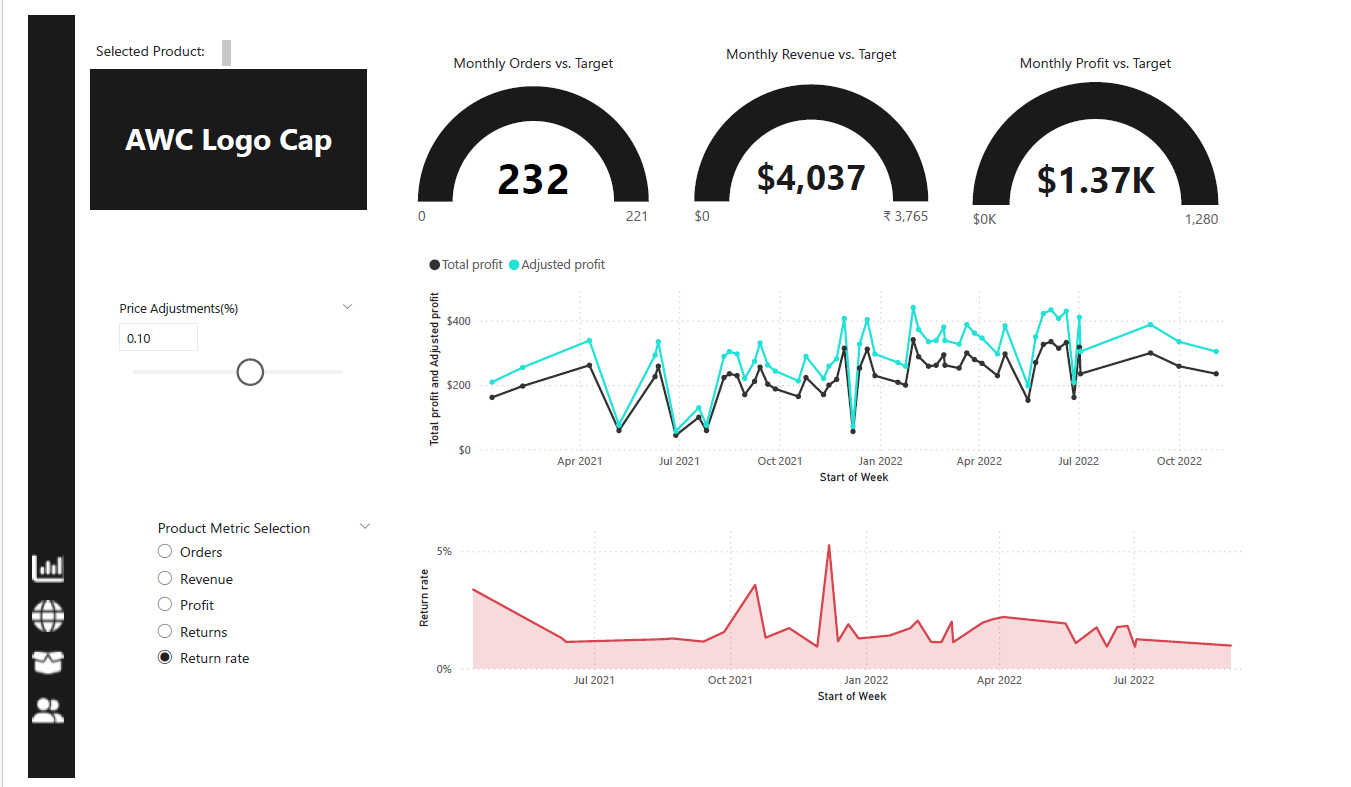

This screenshot's page, from the dashboard's own definition file:
{"tool":"powerbi","page":{"name":"Product Detail","canvas":[1280,720],"ordinal":2},"visuals":[{"type":"shape","box":[0,0,44.3,720],"z":0},{"type":"actionButton","box":[0,546,36.8,40.4],"z":0,"group":"g1"},{"type":"gauge","title":"Monthly Orders vs. Target","fields":{"MaxValue":["Measure Table.order target"],"Y":["Measure Table.Total orders"]},"box":[362.9,35.7,228.6,181.4],"z":1000},{"type":"actionButton","box":[0,590.6,36.8,40.4],"z":1000,"group":"g1"},{"type":"gauge","title":"Monthly Profit vs. Target","fields":{"MaxValue":["Measure Table.profit target"],"Y":["Measure Table.Total profit"]},"box":[887.1,35.7,241.4,180],"z":2000},{"type":"actionButton","box":[0,501.5,36.8,40.4],"z":2000,"group":"g1"},{"type":"gauge","title":"Monthly Revenue vs. Target","fields":{"MaxValue":["Measure Table.Revenue target"],"Y":["Measure Table.Total revenue"]},"box":[623.6,27.1,231.4,197.1],"z":3000},{"type":"actionButton","box":[0,635.1,36.8,40.4],"z":3000,"group":"g1"},{"type":"lineChart","title":" Profit Trending","fields":{"Category":["Calendar Lookup.Date hierarchy.Start of Year","Calendar Lookup.Date hierarchy.Start of Month","Calendar Lookup.Date hierarchy.Start of Week","Calendar Lookup.Date hierarchy.Date"],"Y":["Measure Table.Total profit","Measure Table.Adjusted profit"]},"box":[372.9,215.7,775.7,231.4],"z":4000},{"type":"areaChart","title":" Returns Trending","fields":{"Category":["Calendar Lookup.Date hierarchy.Start of Year","Calendar Lookup.Date hierarchy.Start of Month","Calendar Lookup.Date hierarchy.Start of Week","Calendar Lookup.Date hierarchy.Date"],"Y":["Measure Table.Return rate"]},"box":[362.9,470,798.6,184.3],"z":5000},{"type":"card","fields":{"Values":["Min(Product Lookup.ProductName)"]},"box":[58.6,51.4,260,131.4],"z":6000},{"type":"textbox","box":[59,19.3,137.3,32.5],"z":7000},{"type":"group","id":"g1","title":"navigation buttons","box":[0,501.5,36.9,173.8],"z":8000},{"type":"slicer","fields":{"Values":["Price Adjustments(%).Price Adjustments(%)"]},"box":[72.9,262.9,245.7,137.1],"z":9000},{"type":"slicer","fields":{"Values":["Product Metric Selection.Product Metric Selection"]},"box":[108.6,470,227.1,185.7],"z":10000}]}

Visuals, with their boxes on the page's 1280x720 design canvas (x1, y1, x2, y2). These are canvas units, not pixel positions in the 1351x787 screenshot, which may show the page scaled, cropped or inside an application window:
shape: [0,0,44,720]
actionButton: [0,546,37,586]
"Monthly Orders vs. Target" gauge: [363,36,592,217]
actionButton: [0,591,37,631]
"Monthly Profit vs. Target" gauge: [887,36,1128,216]
actionButton: [0,502,37,542]
"Monthly Revenue vs. Target" gauge: [624,27,855,224]
actionButton: [0,635,37,676]
" Profit Trending" lineChart: [373,216,1149,447]
" Returns Trending" areaChart: [363,470,1162,654]
card - Min(Product Lookup.ProductName): [59,51,319,183]
textbox: [59,19,196,52]
"navigation buttons" group: [0,502,37,675]
slicer - Price Adjustments(%).Price Adjustments(%): [73,263,319,400]
slicer - Product Metric Selection.Product Metric Selection: [109,470,336,656]
